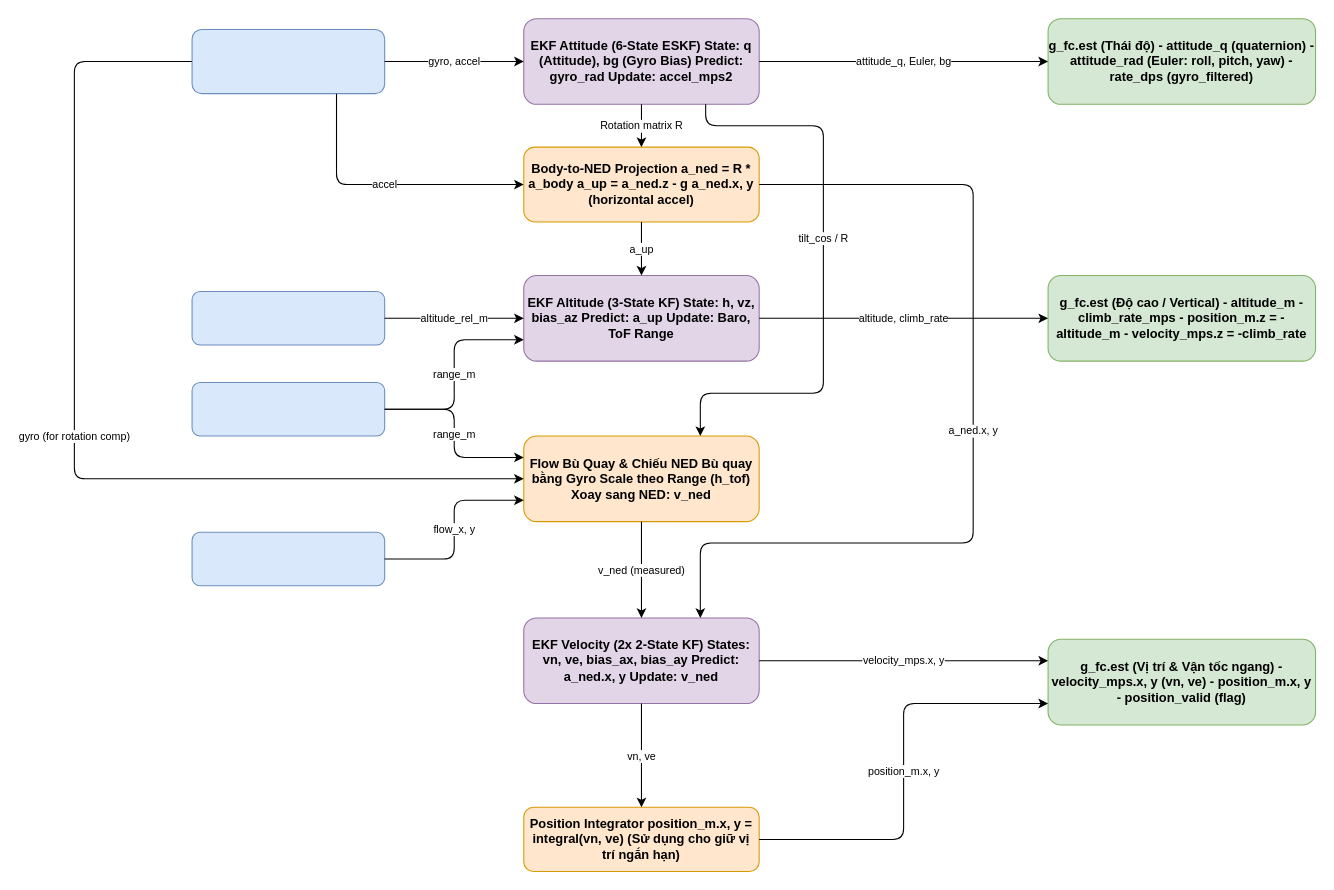
Image size: 1334x890. Some labels were removed from this diagram. The centre of each missing label's shape, as x and y in pixels:
"Barometer (altitude_rel_m)" goes at (x=288, y=318).
"IMU Sensor (gyro_dps, accel_mps2)" goes at (x=288, y=61).
"Optical Flow (flow_x_raw, flow_y_raw)" goes at (x=288, y=558).
"ToF Rangefinder (range_mm)" goes at (x=288, y=408).
